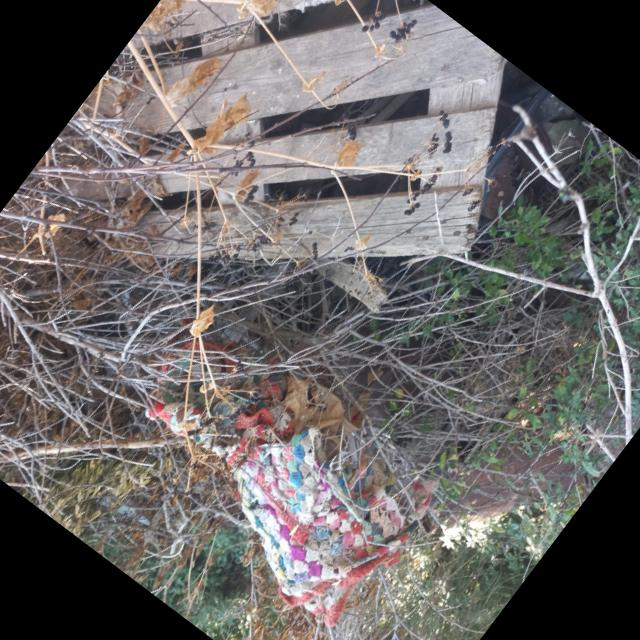Other litter: (68, 0, 490, 266), (147, 333, 446, 629)
